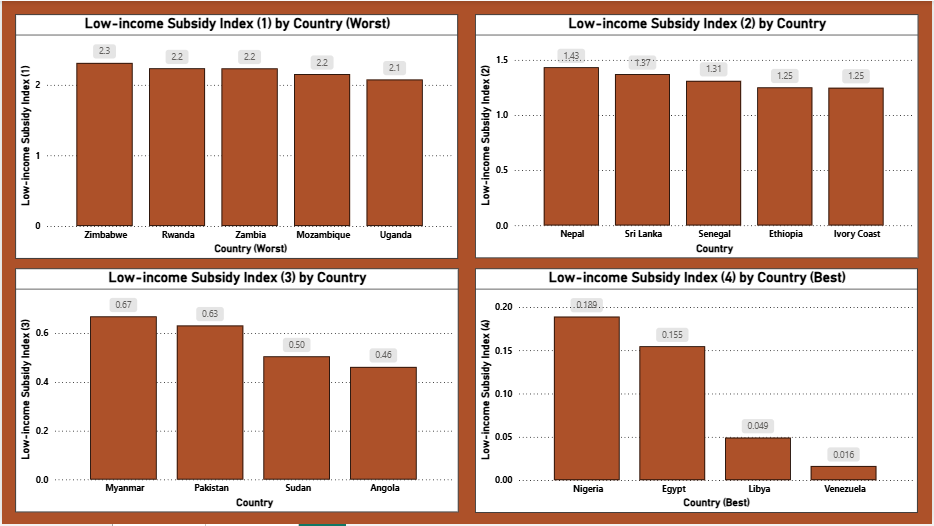

What the dashboard file says about the page in this screenshot:
{"tool":"powerbi","page":{"name":"Page 2","canvas":[1280,720],"ordinal":1},"visuals":[{"type":"clusteredColumnChart","fields":{"Y":["Sum(top5_low_income_subsidy_3.afford_index)"],"Category":["top5_low_income_subsidy_3.country"]},"box":[651.1,16.7,609.4,336.4],"z":0},{"type":"clusteredColumnChart","fields":{"Y":["Sum(top5_low_income_subsidy_2.afford_index)"],"Category":["top5_low_income_subsidy_2.country"]},"box":[18.3,368,609.4,336.4],"z":1000},{"type":"clusteredColumnChart","fields":{"Category":["top5_low_income_subsidy_1.country"],"Y":["Sum(top5_low_income_subsidy_1.afford_index)"]},"box":[651.1,368,609.4,336.4],"z":2000},{"type":"clusteredColumnChart","fields":{"Category":["top5_low_income_subsidy_4.country"],"Y":["Sum(top5_low_income_subsidy_4.afford_index)"]},"box":[18.3,16.7,609.4,336.4],"z":3000}]}

Visuals, with their boxes in screenshot pixels (x1, y1, x2, y2), scaled from the page's 1280x720 canvas onto the 934x526 screenshot:
clusteredColumnChart - Sum(top5_low_income_subsidy_3.afford_index) x top5_low_income_subsidy_3.country: [475, 12, 920, 258]
clusteredColumnChart - Sum(top5_low_income_subsidy_2.afford_index) x top5_low_income_subsidy_2.country: [13, 269, 458, 515]
clusteredColumnChart - top5_low_income_subsidy_1.country x Sum(top5_low_income_subsidy_1.afford_index): [475, 269, 920, 515]
clusteredColumnChart - top5_low_income_subsidy_4.country x Sum(top5_low_income_subsidy_4.afford_index): [13, 12, 458, 258]
